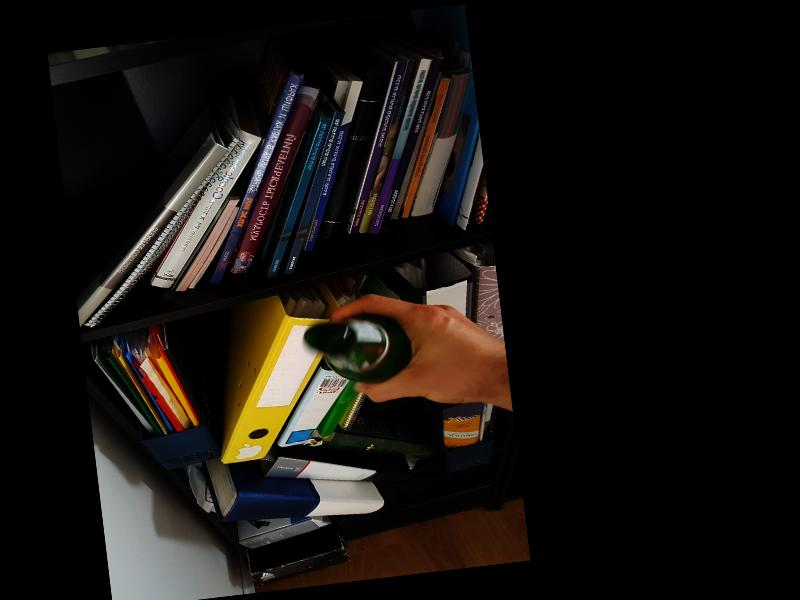Beer: (303, 309, 415, 390)
